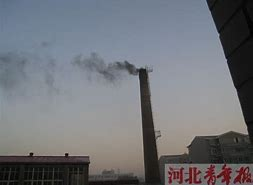smoke: (47, 50, 138, 85)
